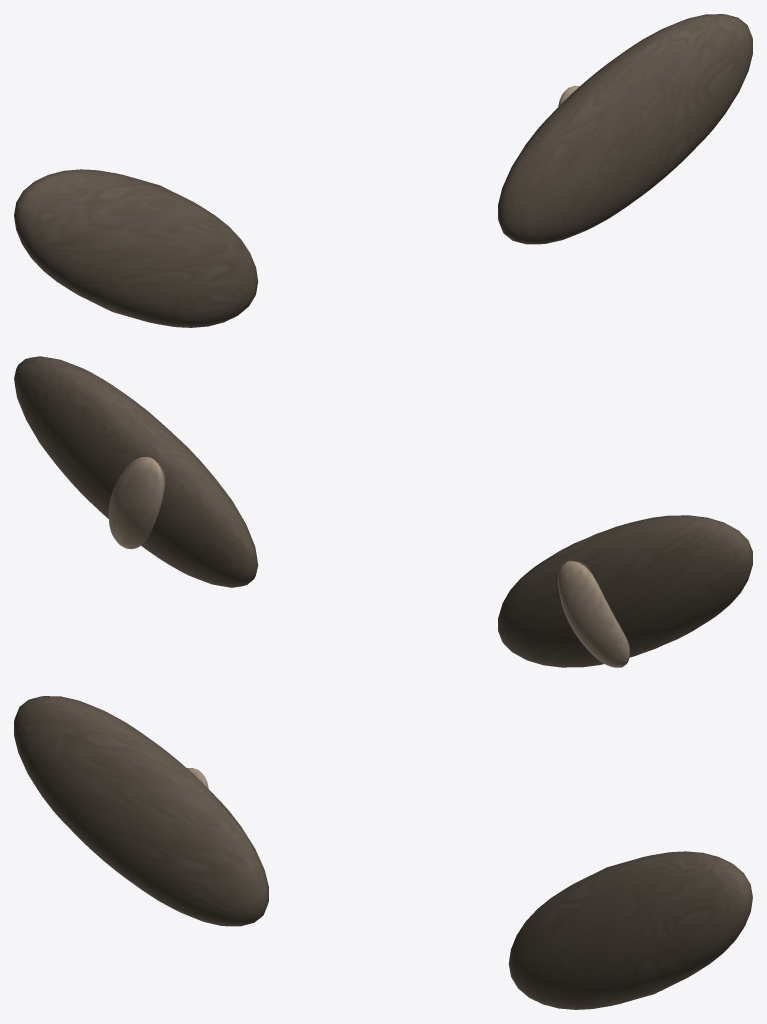
Rendered from oeil_renard.fbx.
The picture shows the model from 3 angles, top to bottom: view 1: azimuth 30°, elevation 25°; view 2: azimuth 150°, elevation 25°; view 3: azimuth 330°, elevation 25°; orthographic projection.
Visible parts, largest first — view 1: oeil renard; view 2: oeil renard; view 3: oeil renard.
Part boxes in pixels (<box>): oeil renard: <box>14,14,752,327</box>; oeil renard: <box>14,356,752,667</box>; oeil renard: <box>14,696,752,1009</box>.
Size of the model in its own units: 24.99 by 6.02 by 2.58.
1 material, 1 textured.
